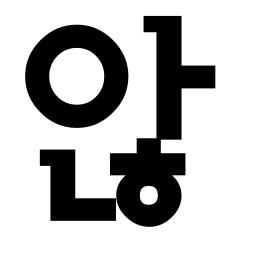Gaji: (140, 53, 197, 103)
